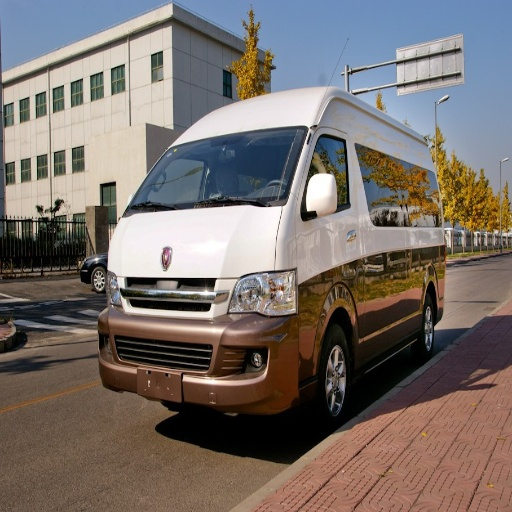front_bumper: (100, 266, 321, 412)
front_glass: (127, 130, 305, 213)
front_left_door: (300, 126, 359, 256), (357, 277, 402, 345)
trunk: (380, 243, 444, 302)
